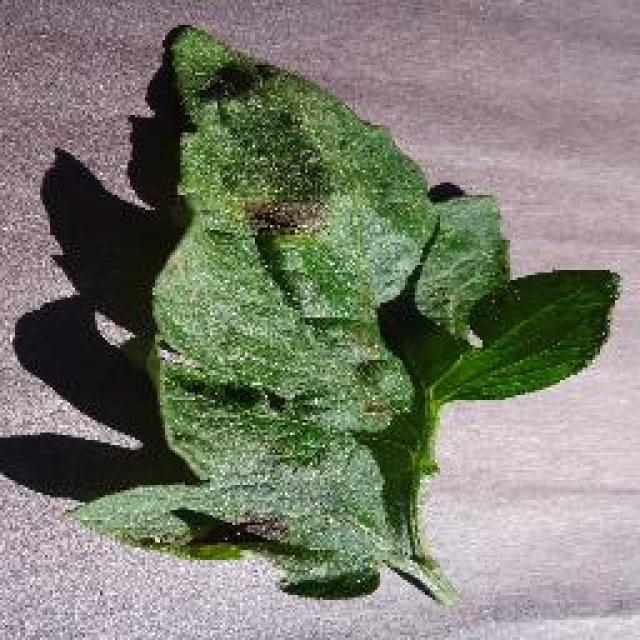Tomato___Early_blight: (51, 24, 624, 610)
